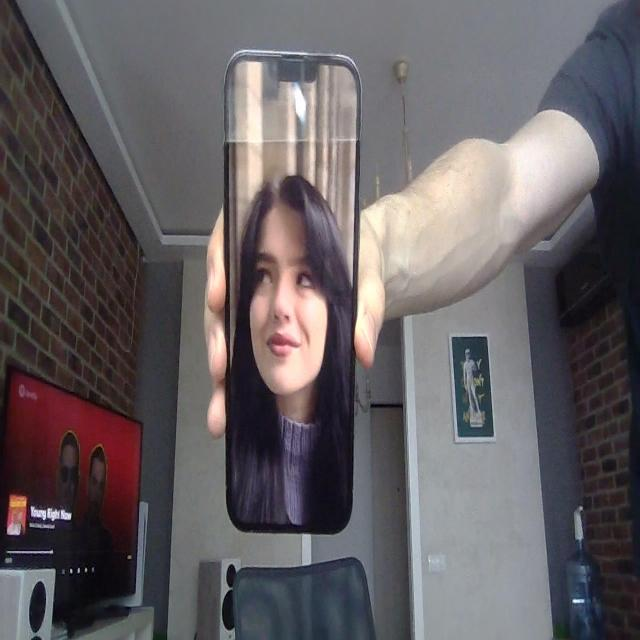device: (211, 39, 369, 548)
